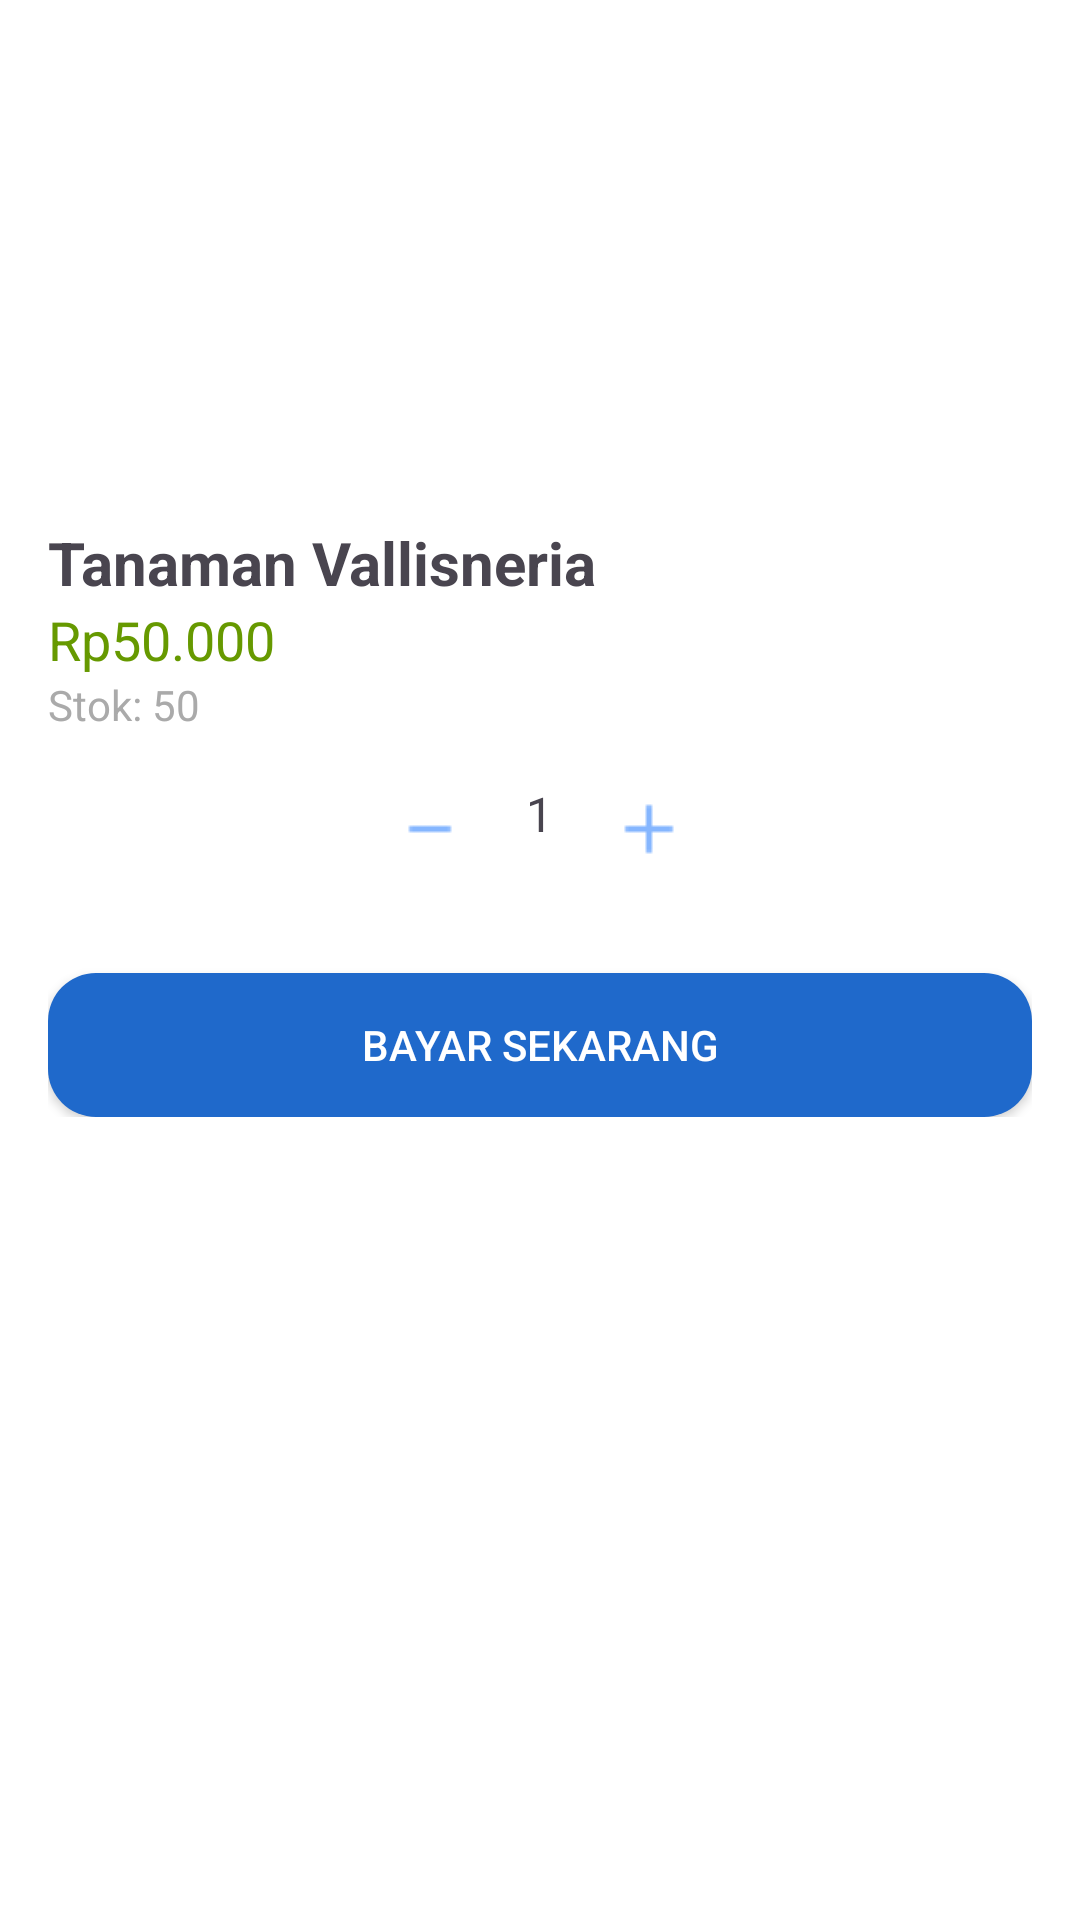

Named icons in this screenshot (1080 x 1920) and their bounding boxes, (x1, y1, x2, y2):
plus: (624, 804, 674, 854)
